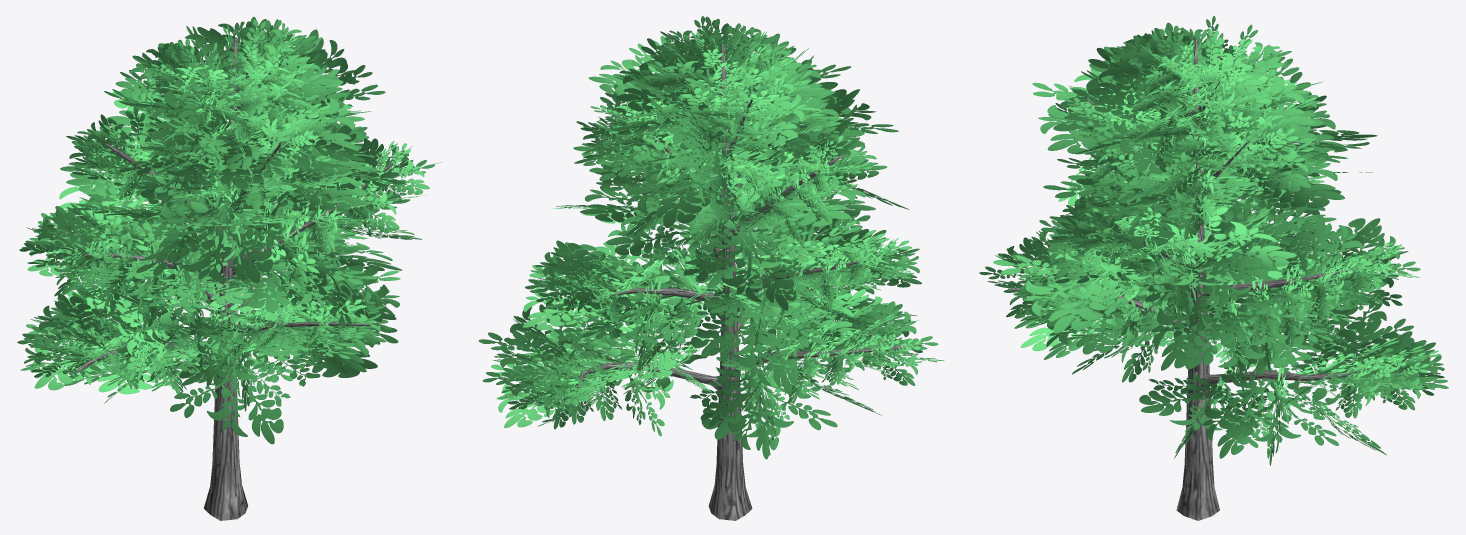
The model's file is tree.fbx.
3 renders of one model, left to right at view 1: azimuth 30°, elevation 25°; view 2: azimuth 150°, elevation 25°; view 3: azimuth 270°, elevation 25°, orthographic. The views are drawn at different scales.
Parts seen in each view (by area): view 1: Tree01_jbm_m; view 2: Tree01_jbm_m; view 3: Tree01_jbm_m.
Part boxes in pixels (left/top/right/bottom): Tree01_jbm_m: left=17, top=17, right=441, bottom=520; Tree01_jbm_m: left=478, top=16, right=944, bottom=520; Tree01_jbm_m: left=979, top=16, right=1448, bottom=520.
Bounding box in the file's own units: 1120 × 1313 × 1160.
Materials: 2 (2 with a texture image).
